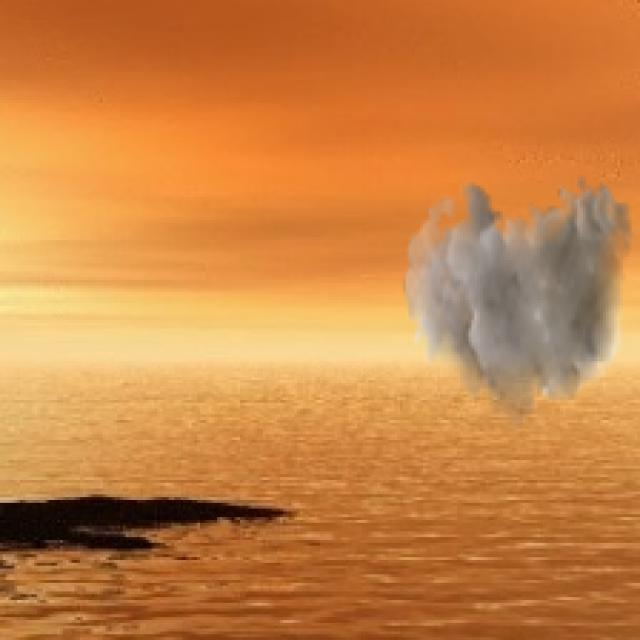Smoke: (403, 174, 634, 434)
